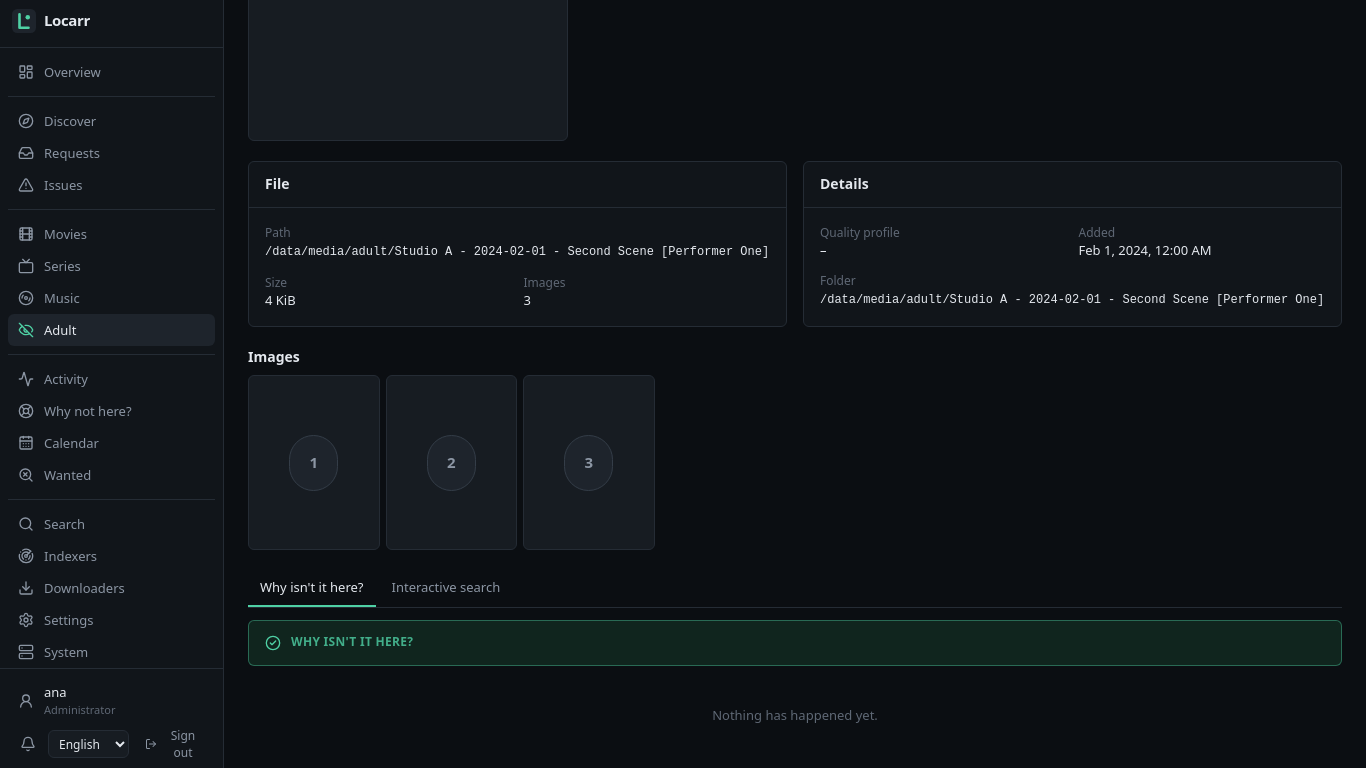
Scenario: adult galleries › shows a gallery's thumbnails, opens the viewer and moves through it
(page scrolled)
Click the button with test id "adult-image" showing "1" at (314, 463), box x1=248 y1=375 x2=380 y2=550
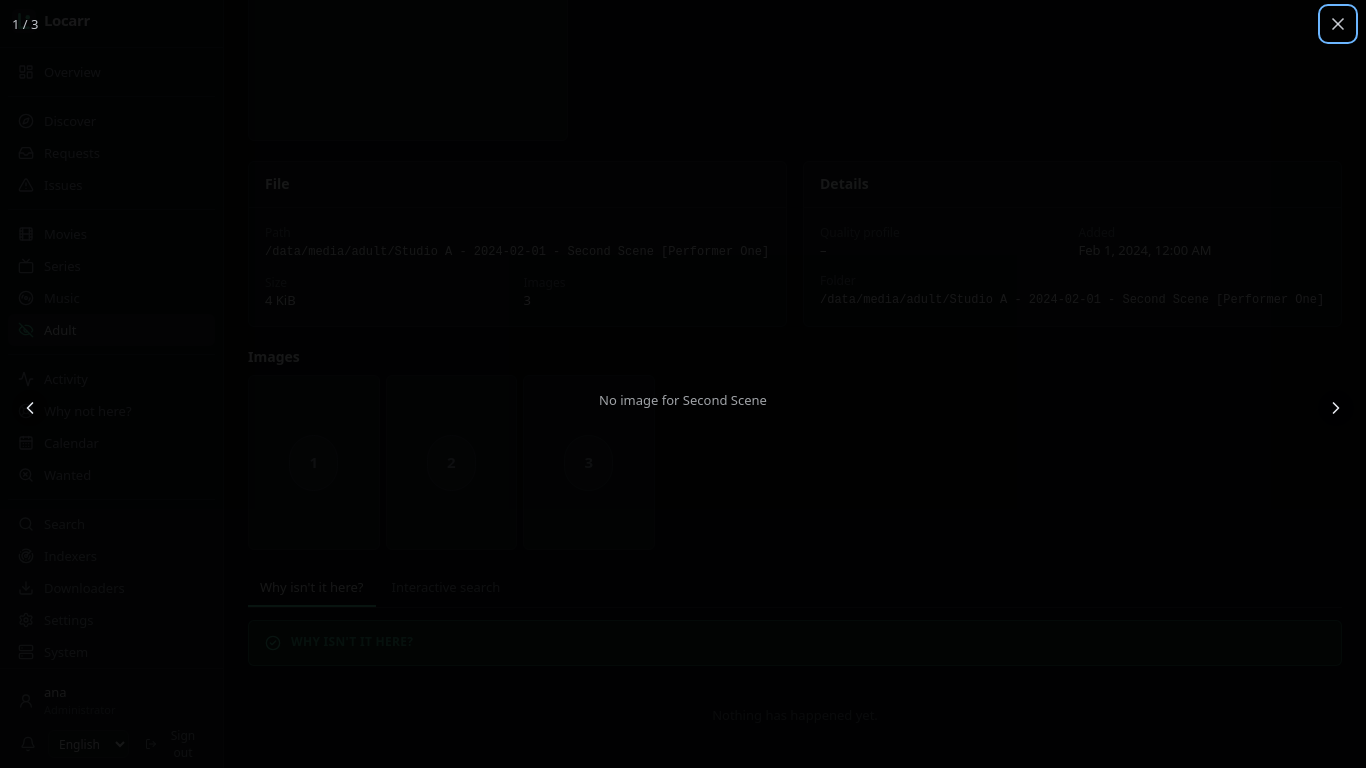
Expected: the text with test id "adult-lightbox-pos" reads "1 / 3", x1=12 y1=15 x2=38 y2=33
Click the button with test id "adult-lightbox-next" at (1336, 408), box x1=1318 y1=390 x2=1354 y2=426
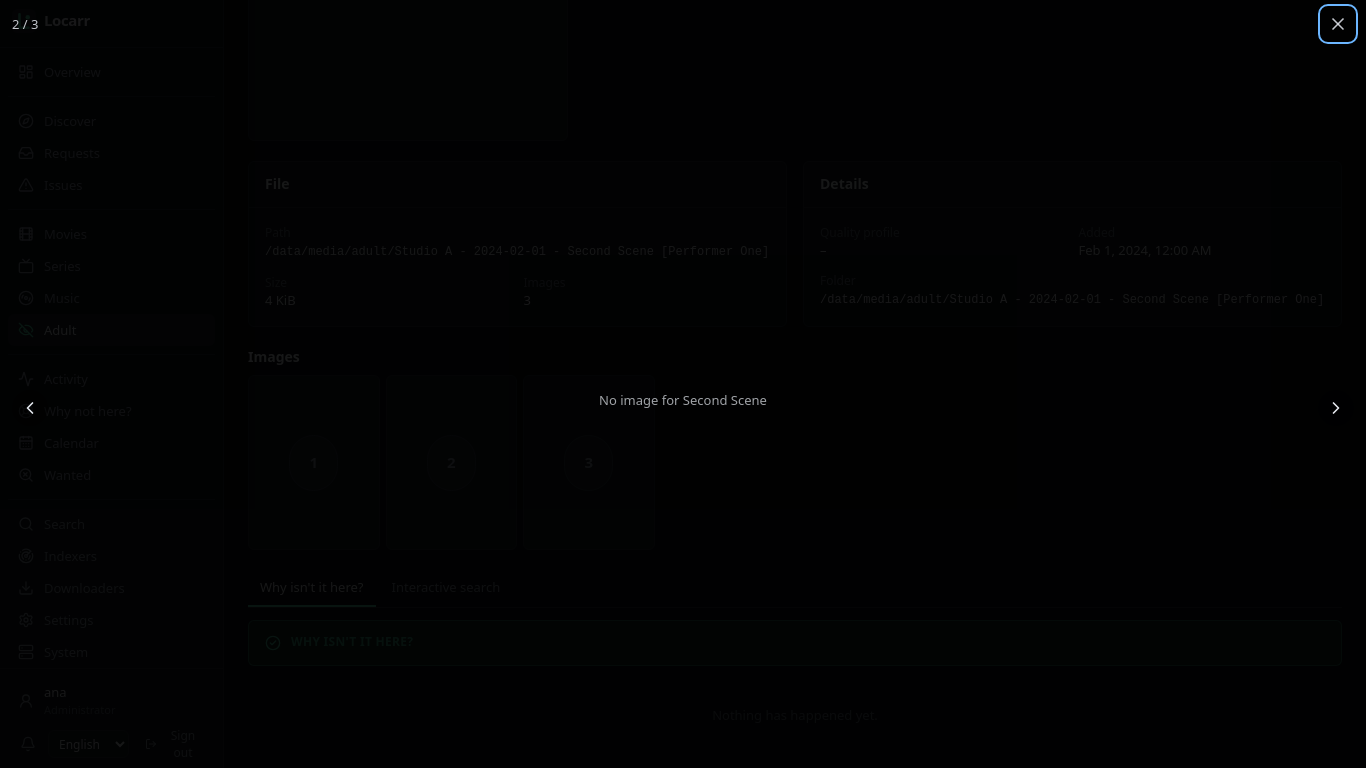
Expected: the text with test id "adult-lightbox-pos" reads "2 / 3", x1=12 y1=15 x2=38 y2=33
Press Arrowleft Arrowleft
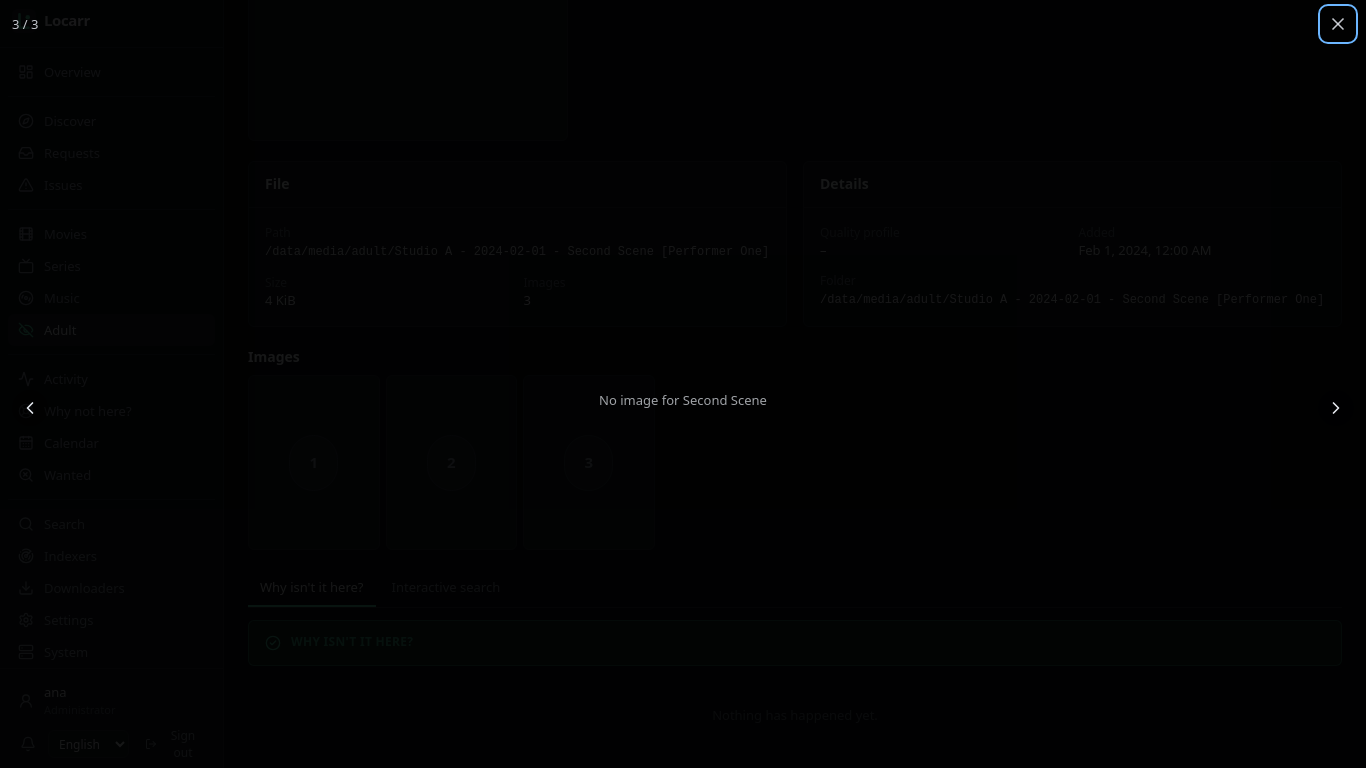
Expected: the text with test id "adult-lightbox-pos" reads "3 / 3", x1=12 y1=15 x2=38 y2=33
Press Escape
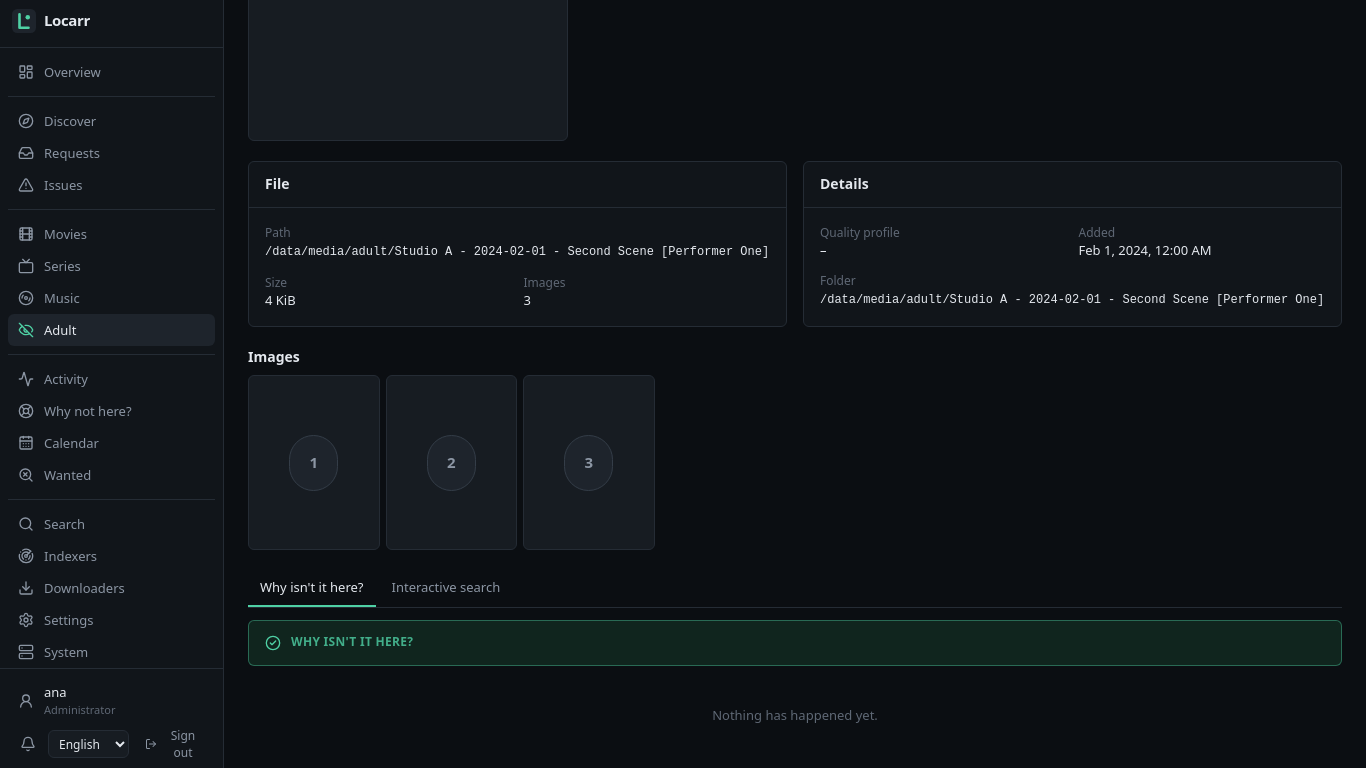
Expected: the dialog with test id "adult-lightbox" is gone
